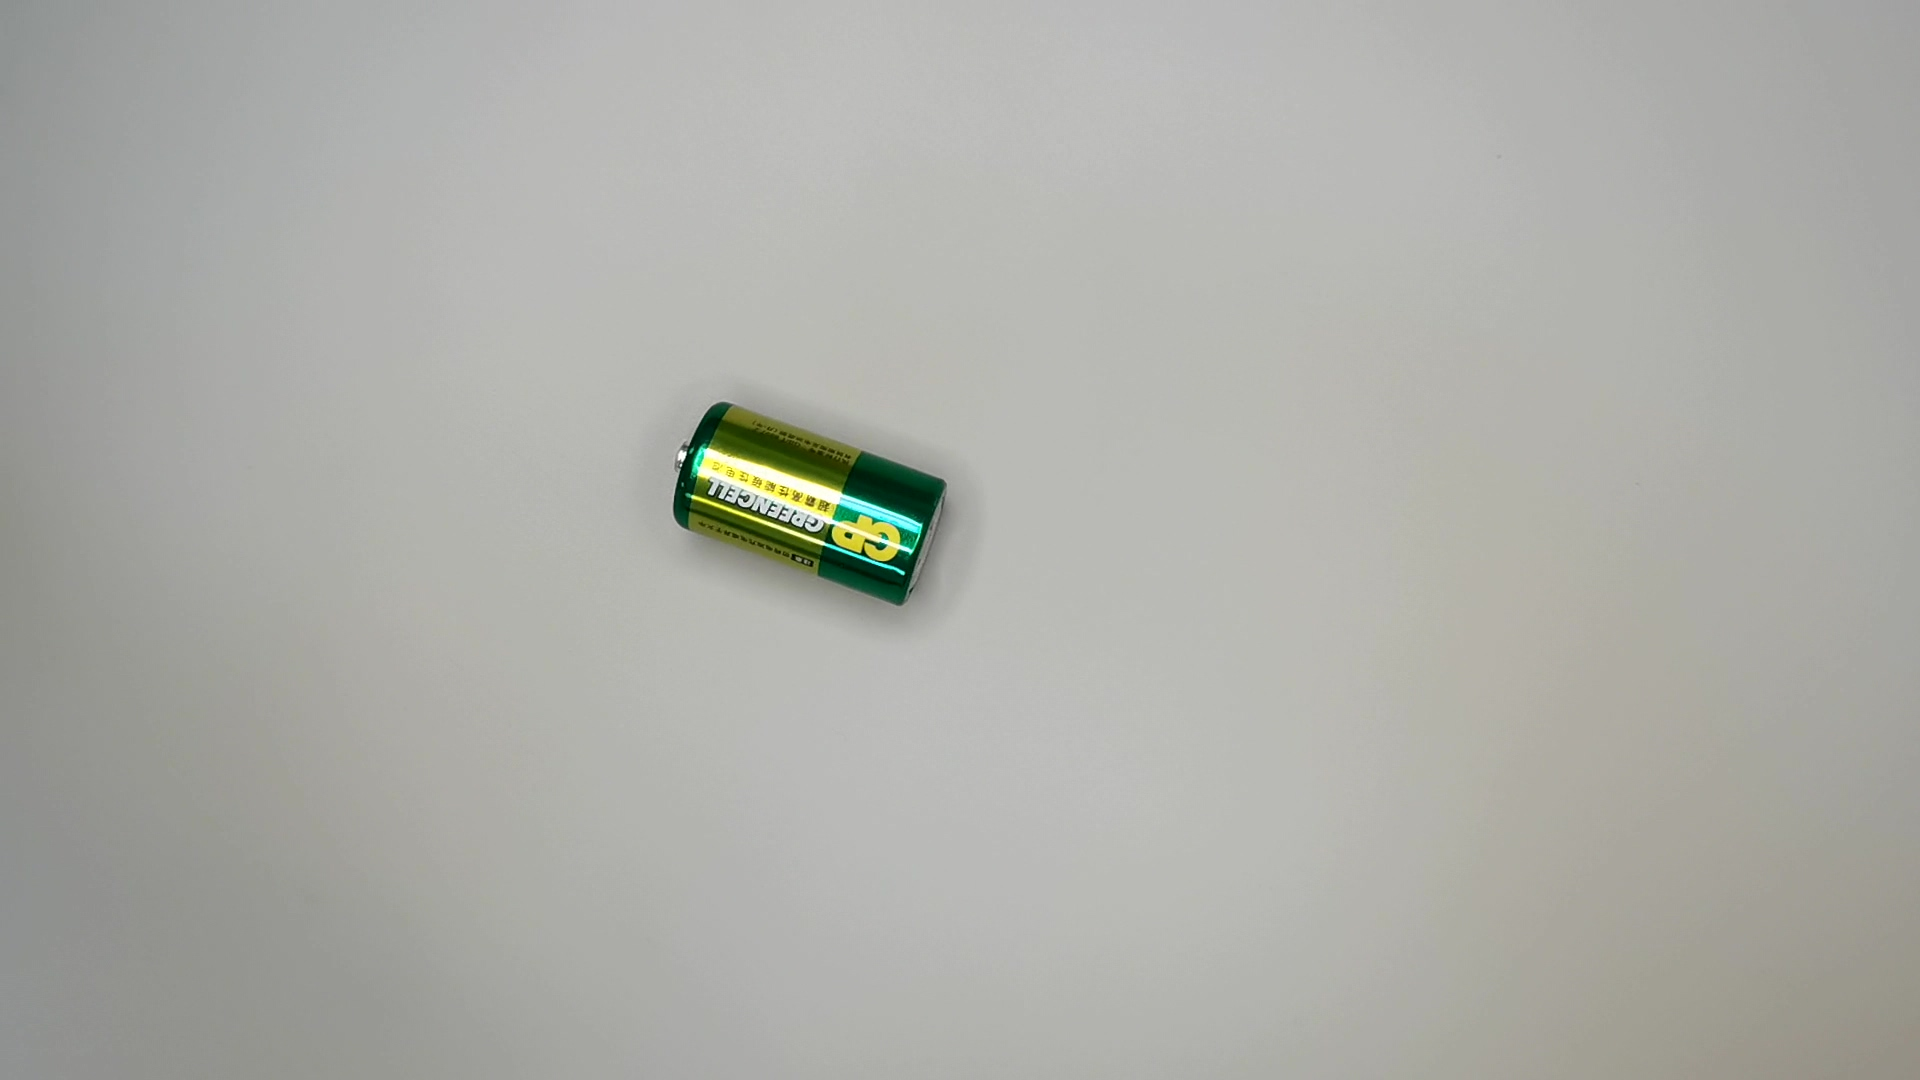battery: (665, 396, 955, 609)
